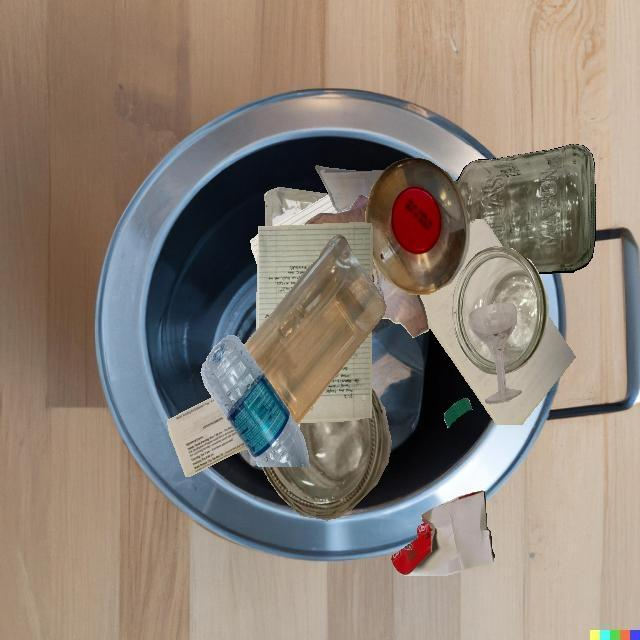glass: (454, 144, 595, 274), (262, 387, 392, 520), (452, 246, 549, 375), (469, 303, 522, 404)
paper: (418, 219, 576, 425), (256, 222, 372, 330), (391, 491, 495, 575), (299, 330, 372, 423), (167, 397, 247, 477), (372, 257, 429, 338), (315, 165, 384, 212), (273, 194, 338, 226), (304, 195, 369, 225)
plastic: (244, 234, 386, 425), (365, 158, 470, 294), (201, 335, 309, 467), (264, 187, 328, 226), (444, 398, 473, 428)
